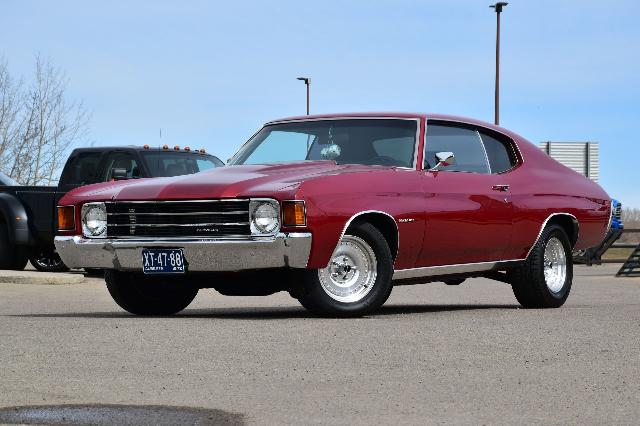chevelle-1972: (55, 113, 613, 317)
